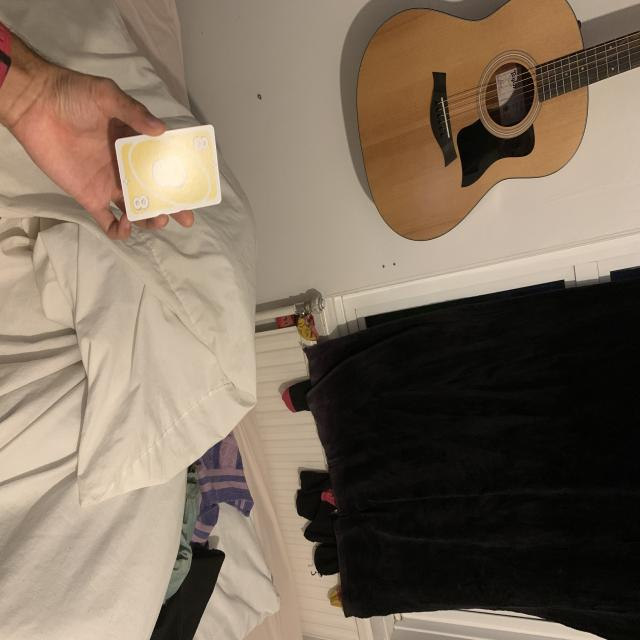lyellow-8: (188, 133, 210, 154)
